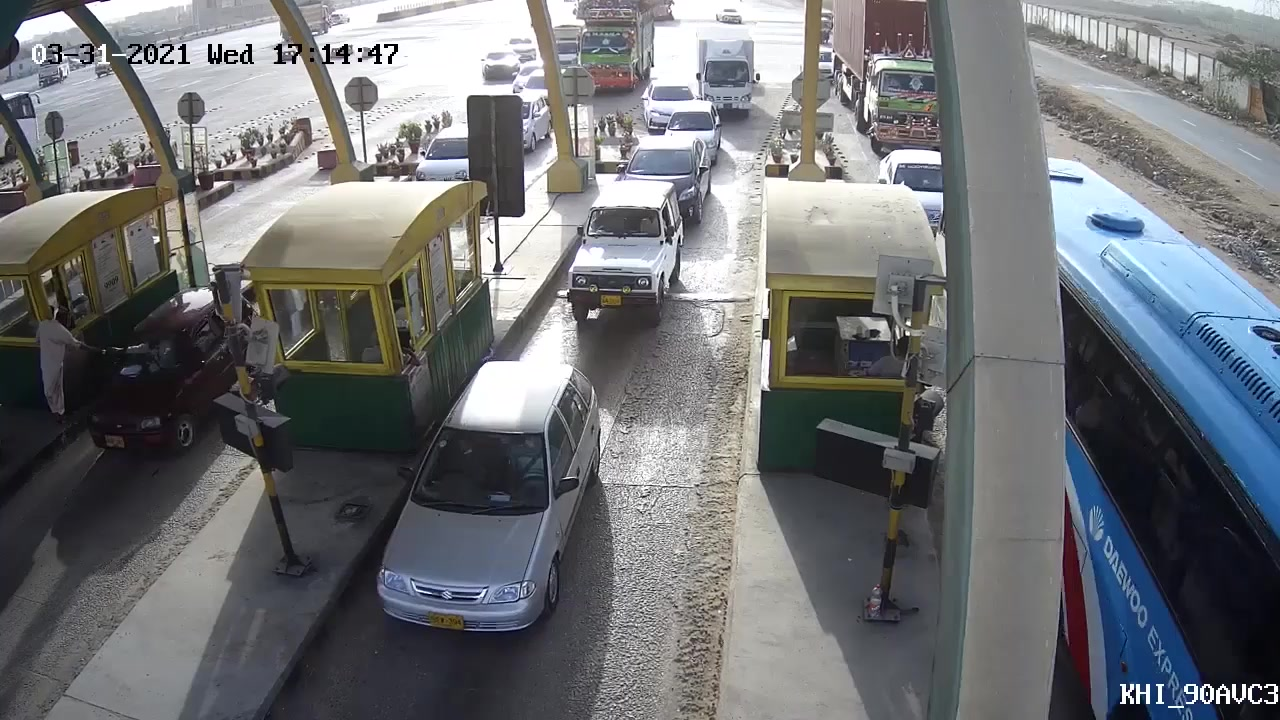F1: (374, 361, 607, 647), (567, 174, 693, 338)
